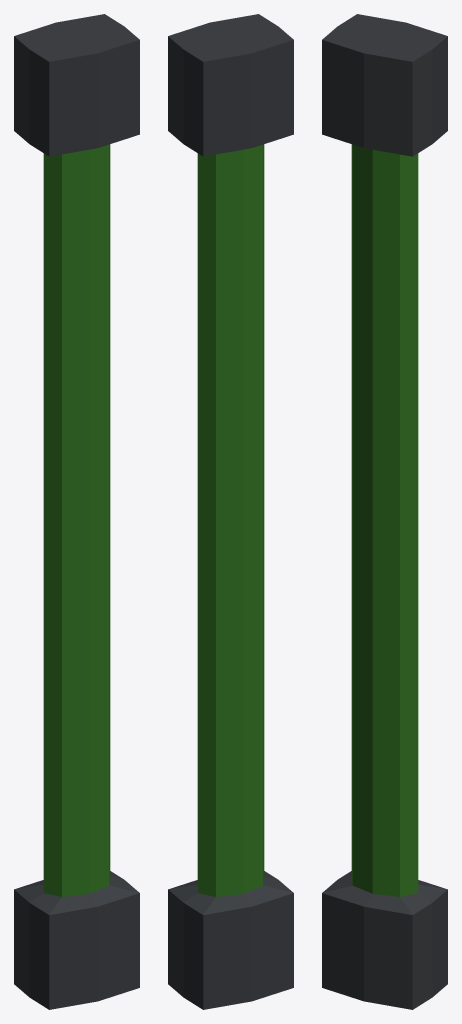
File: SM_Prop_NeonLight_04.fbx
3 views of the same model, side by side, from view 1: azimuth 30°, elevation 25°; view 2: azimuth 210°, elevation 25°; view 3: azimuth 330°, elevation 25° (orthographic).
Visible parts, largest first — view 1: SM_Prop_NeonLight_04; view 2: SM_Prop_NeonLight_04; view 3: SM_Prop_NeonLight_04.
Part boxes in pixels (x1,y1,x2,y2): SM_Prop_NeonLight_04: (14, 14, 139, 1009); SM_Prop_NeonLight_04: (168, 14, 293, 1009); SM_Prop_NeonLight_04: (322, 14, 447, 1009).
Bounding box in the file's own units: 26.86 × 257 × 20.67.
